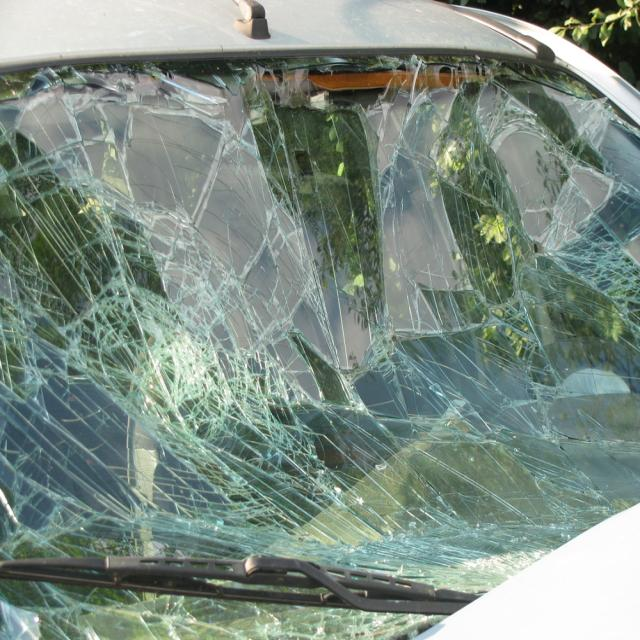glass shatter: (0, 52, 640, 640)
